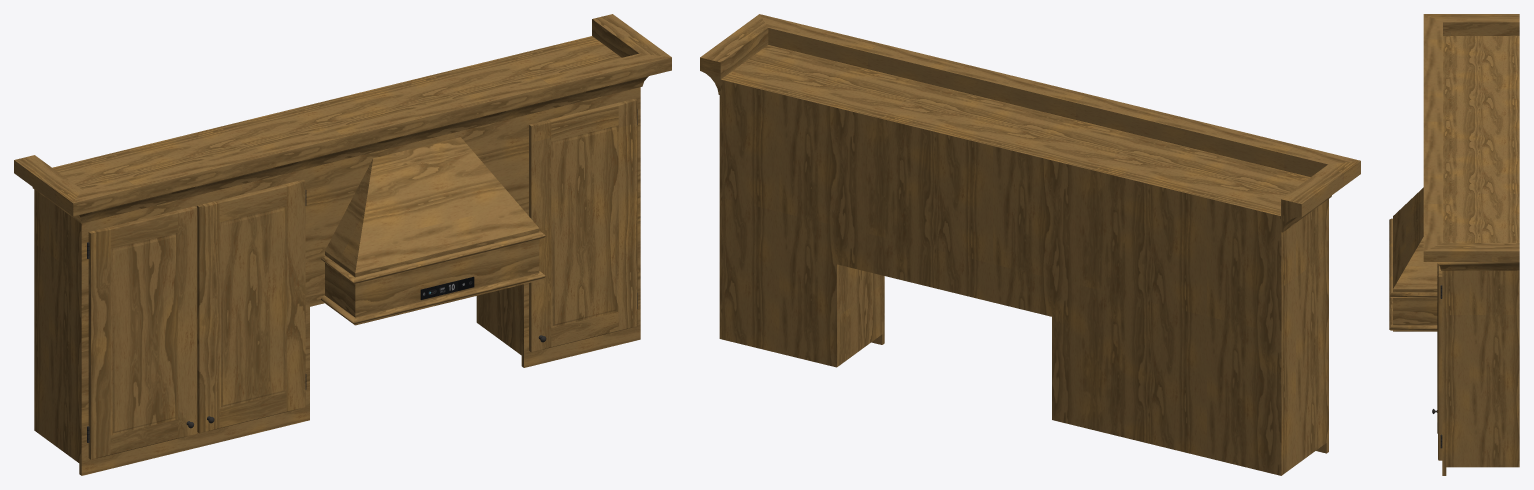
Rendered from kitchen_cabinet_counter_06.fbx.
3 views of the same model, side by side, from view 1: azimuth 30°, elevation 25°; view 2: azimuth 150°, elevation 25°; view 3: azimuth 270°, elevation 25° (orthographic). The views are drawn at different scales.
Parts seen in each view (by area): view 1: klitchen_cabinet_stove_vent; view 2: klitchen_cabinet_stove_vent; view 3: klitchen_cabinet_stove_vent.
Boxes of the visible parts, <box> form: klitchen_cabinet_stove_vent: <box>14,14,671,475</box>; klitchen_cabinet_stove_vent: <box>700,14,1360,475</box>; klitchen_cabinet_stove_vent: <box>1389,14,1519,475</box>.
Size of the model in its own units: 232 by 106 by 53.87.
